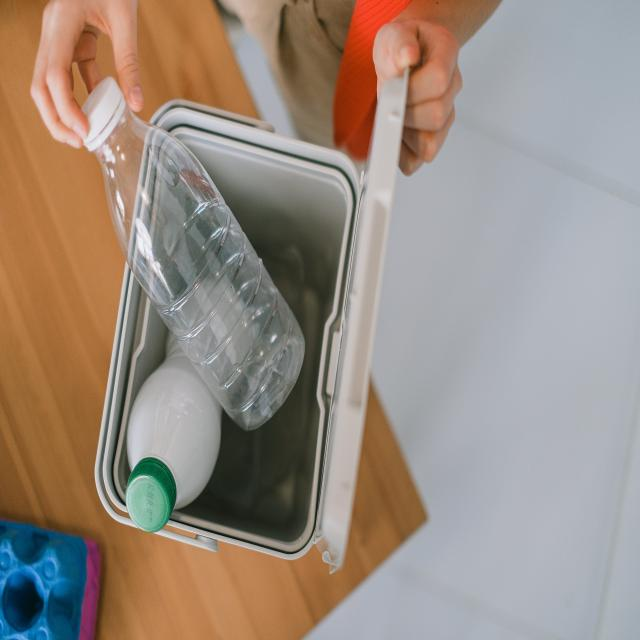plastic: (106, 137, 260, 500)
